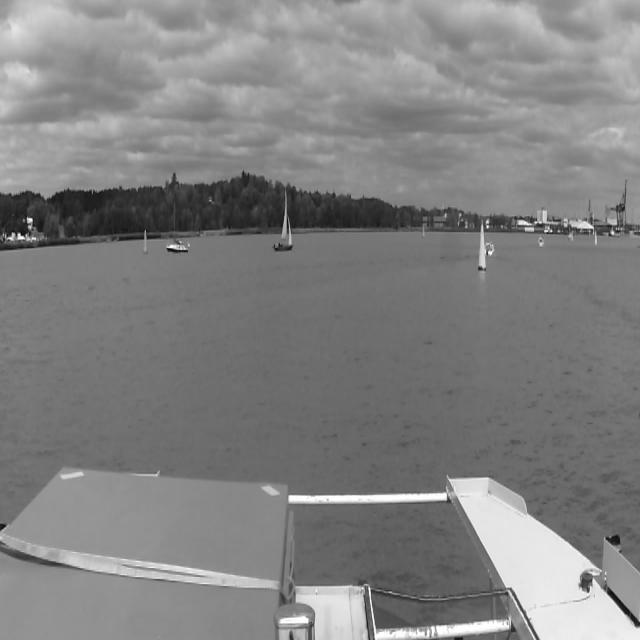buoy: (477, 222, 487, 270), (143, 230, 147, 253)
ship: (167, 202, 189, 253), (275, 190, 293, 252), (486, 244, 496, 257), (538, 237, 544, 248)
